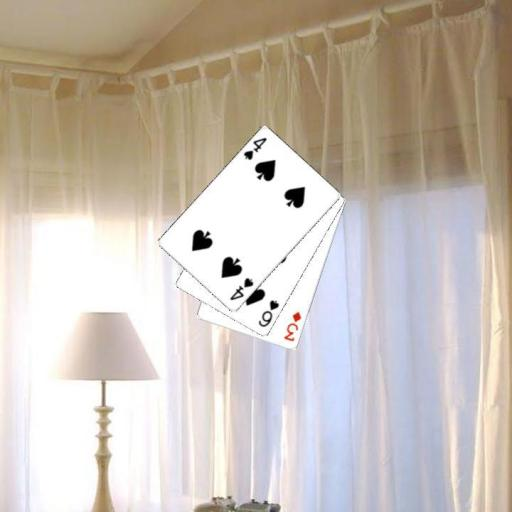3D: (281, 309, 303, 344)
4S: (240, 135, 268, 162), (227, 275, 254, 302)
6S: (255, 297, 281, 329)
